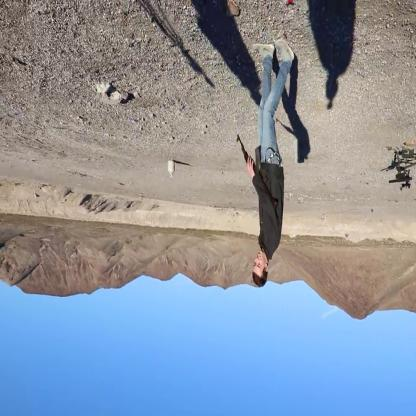long weapon: (232, 133, 280, 211), (382, 151, 415, 197)
